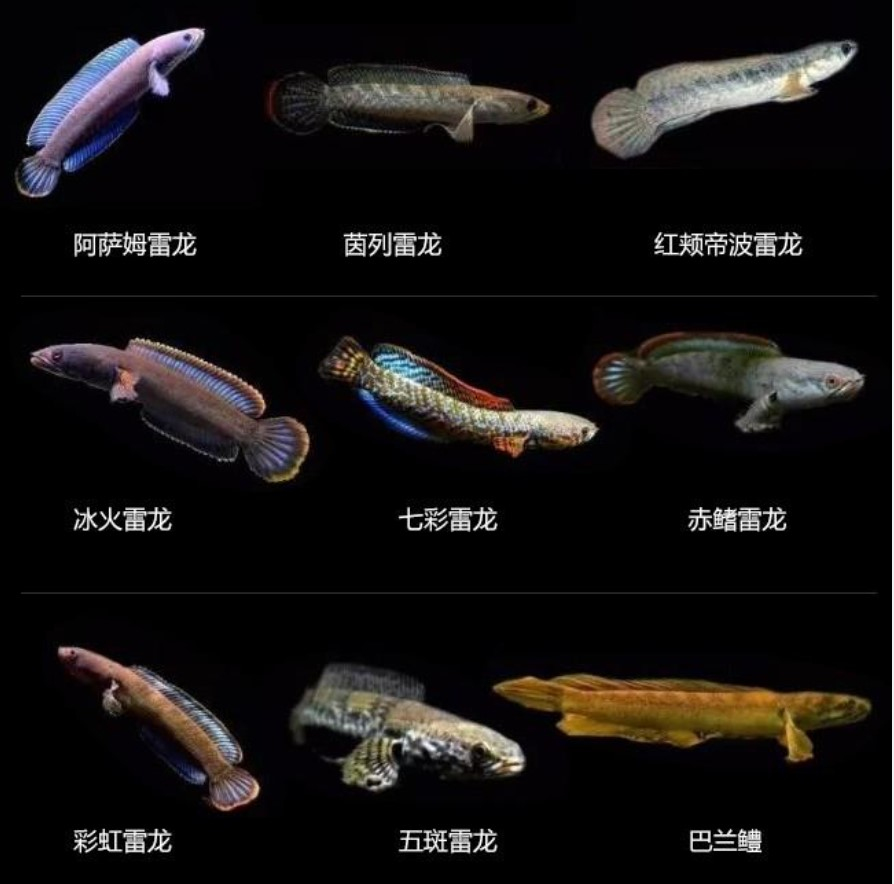Fish: (483, 611, 882, 769), (26, 303, 312, 491), (39, 598, 266, 821), (585, 22, 872, 191), (296, 316, 602, 474), (289, 641, 533, 807), (20, 16, 212, 221), (257, 46, 548, 174), (581, 332, 884, 433)
